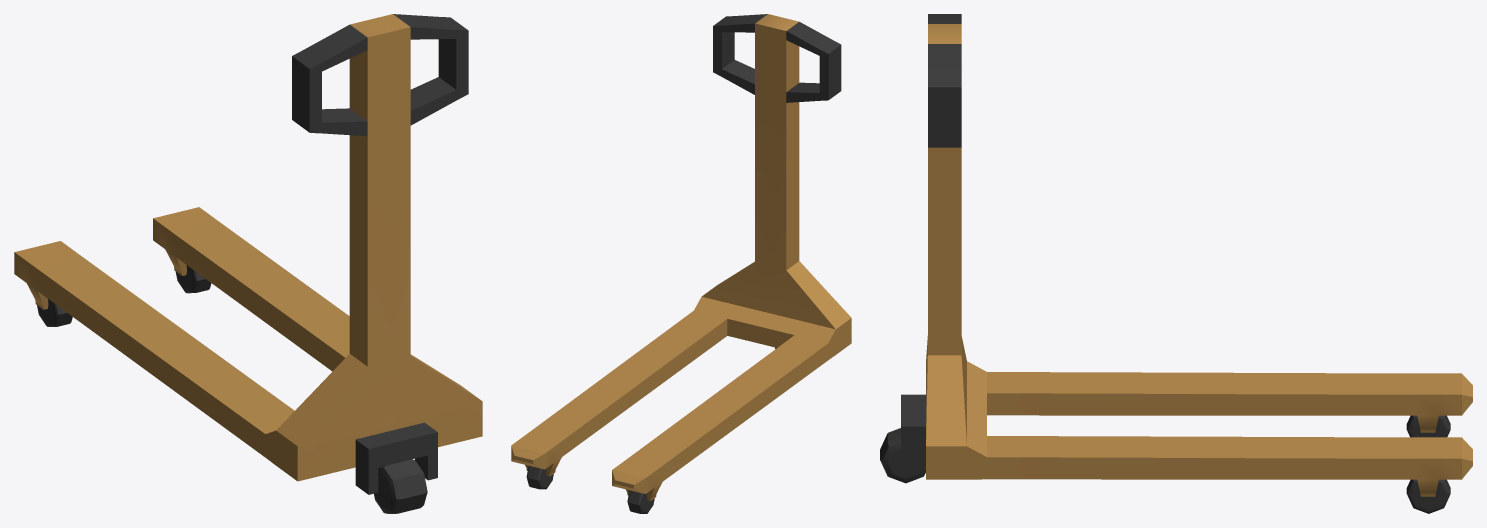
The model's file is jack 1.fbx.
The picture shows the model from 3 angles, left to right: view 1: azimuth 30°, elevation 25°; view 2: azimuth 150°, elevation 25°; view 3: azimuth 270°, elevation 25°; orthographic projection. The views are drawn at different scales.
Parts seen in each view (by area): view 1: jack; view 2: jack; view 3: jack.
Boxes of the visible parts, <box> form: jack: <box>14,14,482,513</box>; jack: <box>511,14,851,513</box>; jack: <box>880,14,1472,513</box>.
Size of the model in its own units: 55 by 134 by 162.
